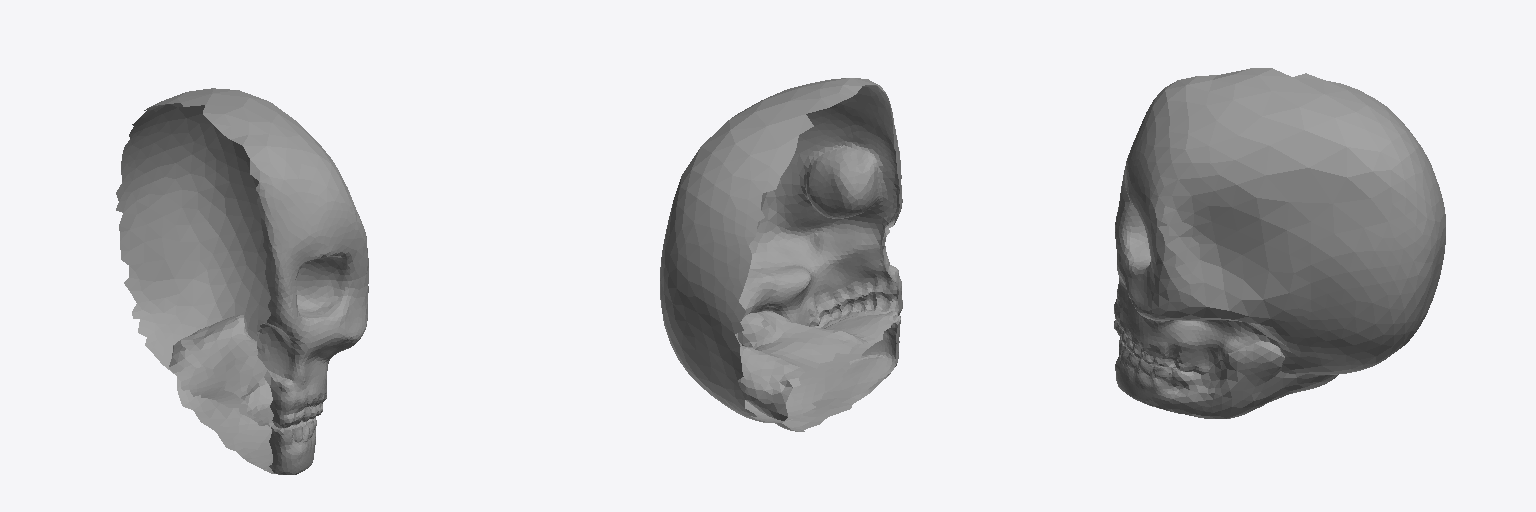
File: whiteskull.obj
3 renders of one model, left to right at view 1: azimuth 30°, elevation 25°; view 2: azimuth 150°, elevation 25°; view 3: azimuth 270°, elevation 25°, orthographic.
Parts seen in each view (by area): view 1: whiteskull.000_whiteskull.002; view 2: whiteskull.000_whiteskull.002; view 3: whiteskull.000_whiteskull.002.
Part boxes in pixels (x1,y1,x2,y2): whiteskull.000_whiteskull.002: (116,88,368,474); whiteskull.000_whiteskull.002: (660,78,902,431); whiteskull.000_whiteskull.002: (1114,68,1445,418).
Size of the model in its own units: 1.4 by 3.49 by 3.29.